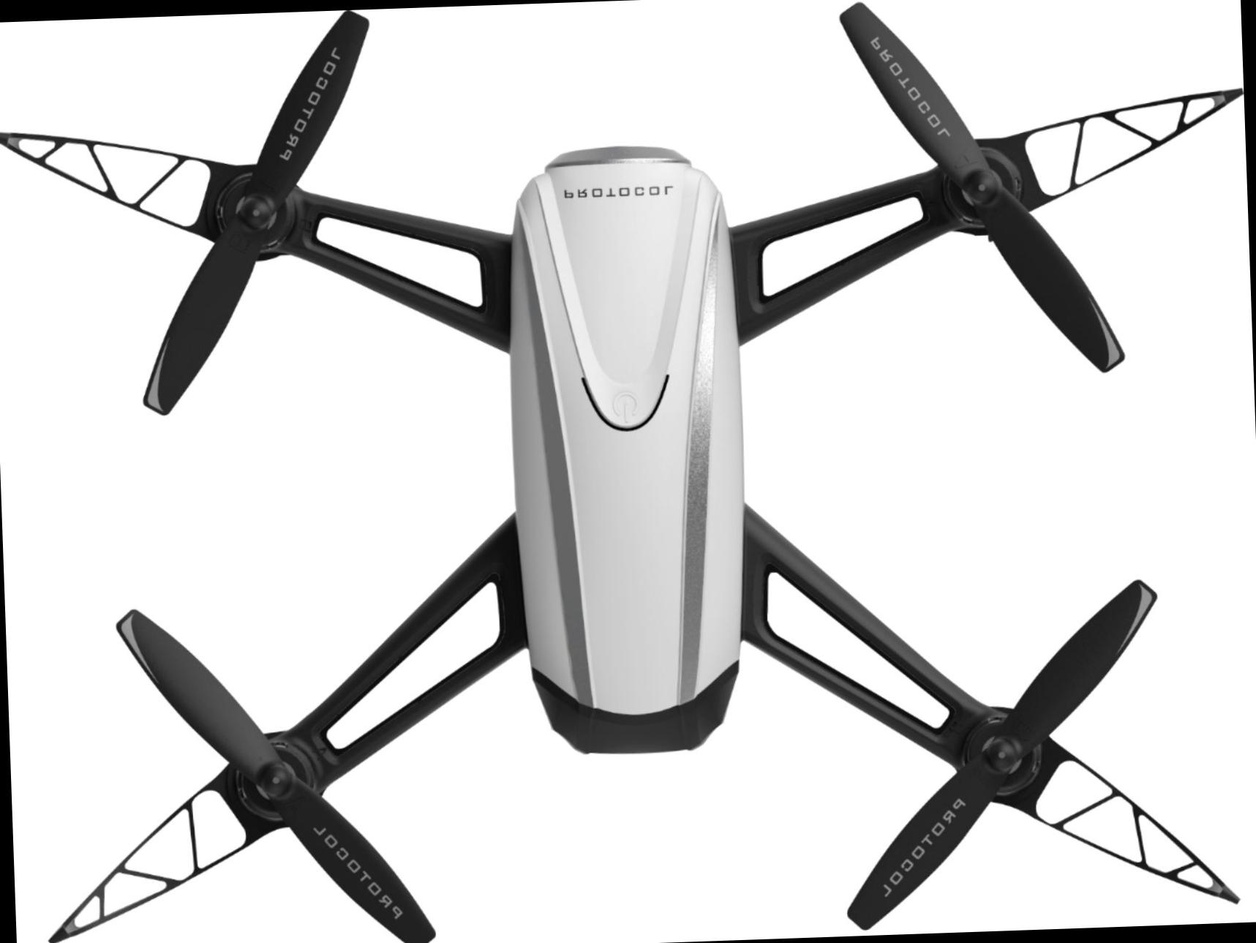drone: (0, 3, 1256, 943)
